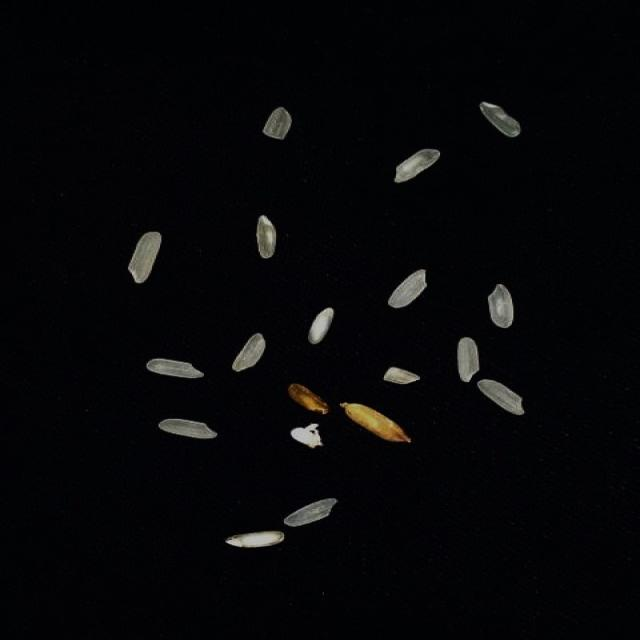Broken: (340, 402, 411, 442), (288, 384, 330, 415), (262, 107, 292, 140), (384, 367, 421, 385), (291, 427, 320, 448)
Full: (387, 268, 428, 310), (394, 148, 441, 184), (478, 380, 525, 416), (129, 232, 161, 284), (284, 498, 337, 527), (480, 102, 521, 137), (232, 333, 267, 372), (158, 418, 218, 440), (486, 283, 514, 328), (146, 358, 204, 378), (225, 530, 285, 548), (458, 337, 480, 383), (255, 216, 278, 258), (308, 307, 334, 343)
